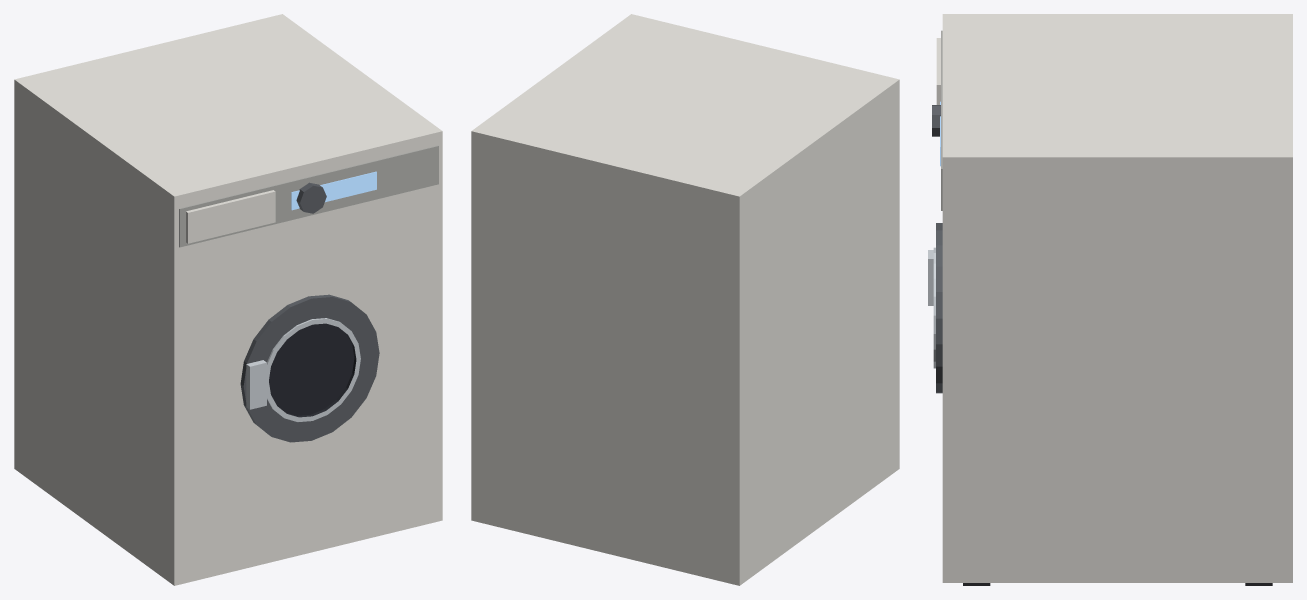
The model's file is FN_Appliance_Washer.glb.
3 views of the same model, side by side, from view 1: azimuth 30°, elevation 25°; view 2: azimuth 150°, elevation 25°; view 3: azimuth 270°, elevation 25° (orthographic). The views are drawn at different scales.
Parts seen in each view (by area): view 1: FN_Appliance_Washer; view 2: FN_Appliance_Washer; view 3: FN_Appliance_Washer.
Boxes of the visible parts, box(x1,y1,x2,y2) form: FN_Appliance_Washer: box(14, 14, 442, 585); FN_Appliance_Washer: box(471, 14, 899, 585); FN_Appliance_Washer: box(928, 14, 1292, 585).
Bounding box in the file's own units: 0.6 × 0.85 × 0.646.
2 materials, 2 textured.
